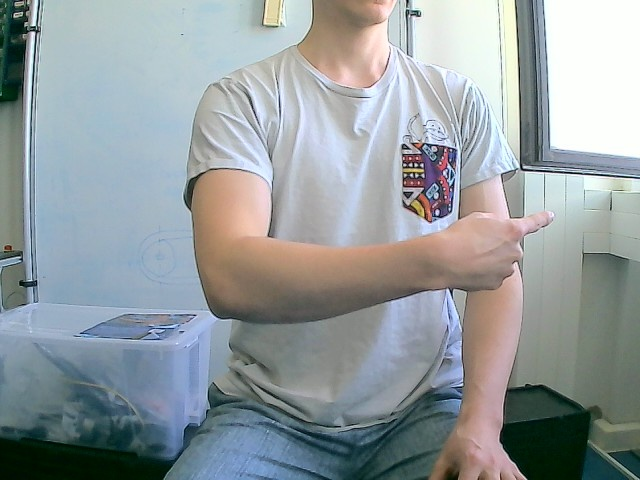left: (442, 208, 555, 293)
